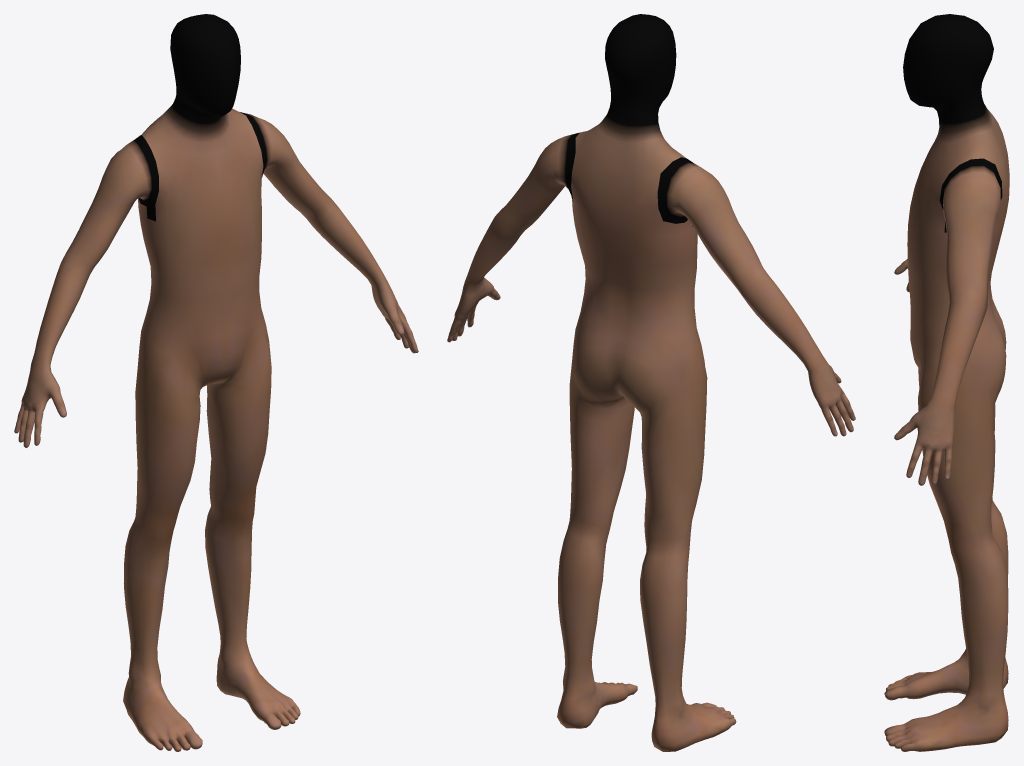
Rendered from human1.fbx.
The picture shows the model from 3 angles, left to right: view 1: azimuth 30°, elevation 25°; view 2: azimuth 150°, elevation 25°; view 3: azimuth 270°, elevation 25°; orthographic projection.
Visible parts, largest first — view 1: Basemesh; view 2: Basemesh; view 3: Basemesh.
Boxes of the visible parts, x1=… form: Basemesh: x1=14, y1=14, x2=418, y2=751; Basemesh: x1=447, y1=14, x2=855, y2=751; Basemesh: x1=884, y1=14, x2=1009, y2=751.
Size of the model in its own units: 102 by 174 by 28.11.
